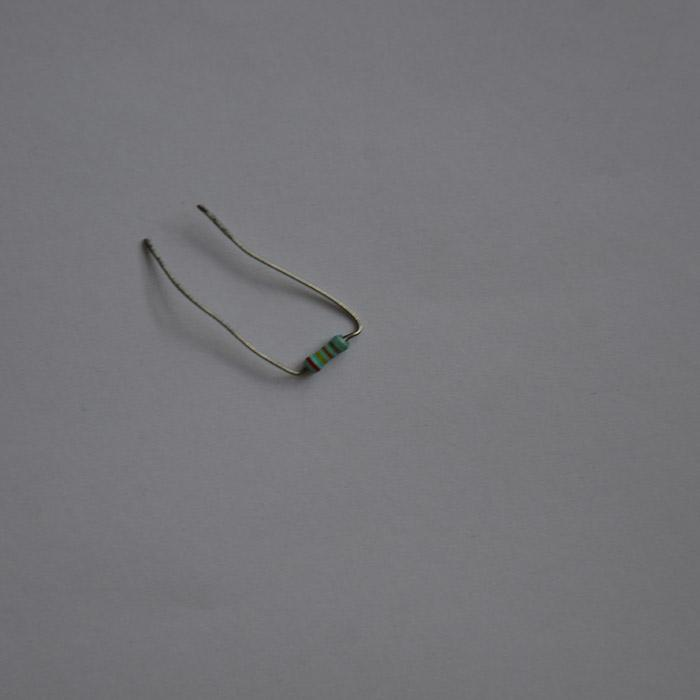resistor: (296, 331, 353, 376)
